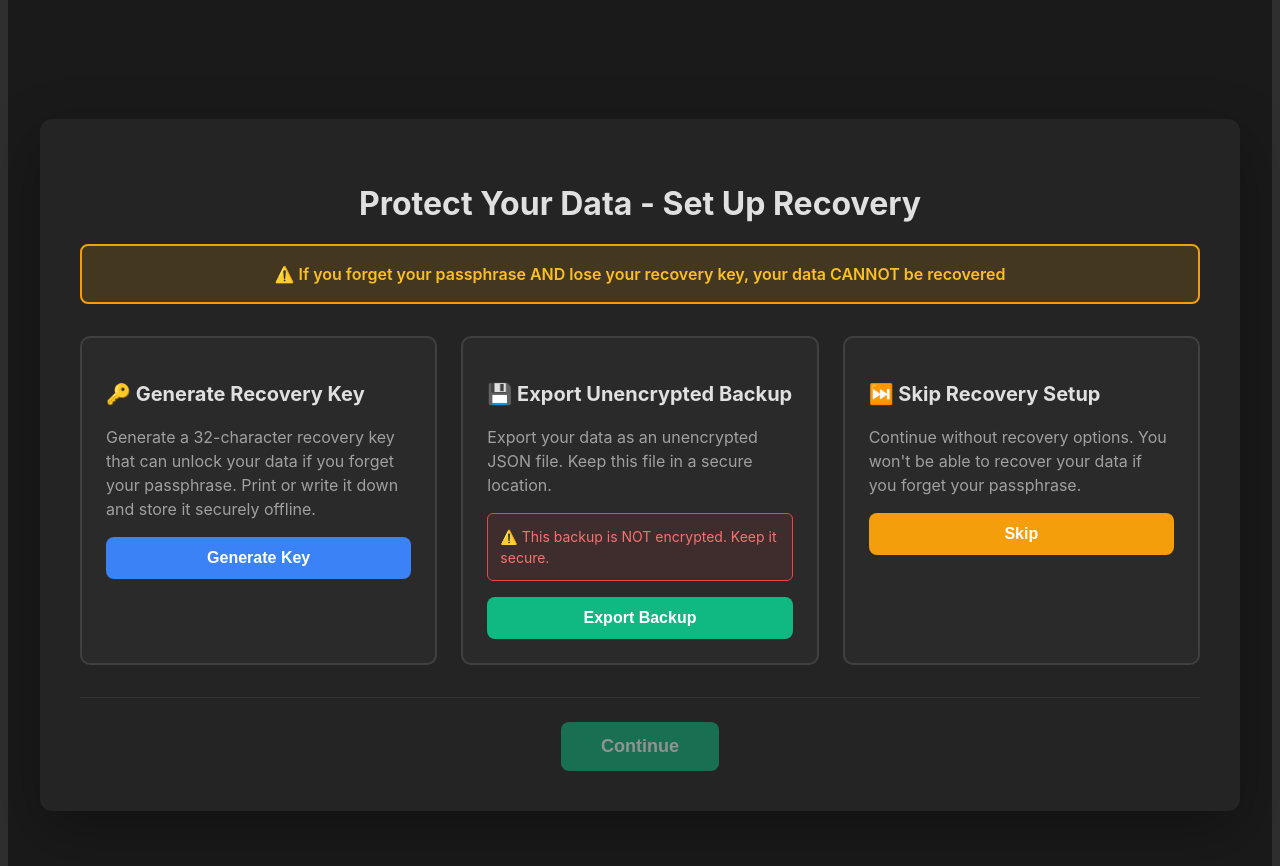
Scenario: RecoveryOptions › requires checkbox confirmation before continuing (AC2)
Note: Generate key
Click the button "Generate Key" at (259, 558), box x1=106 y1=537 x2=411 y2=579
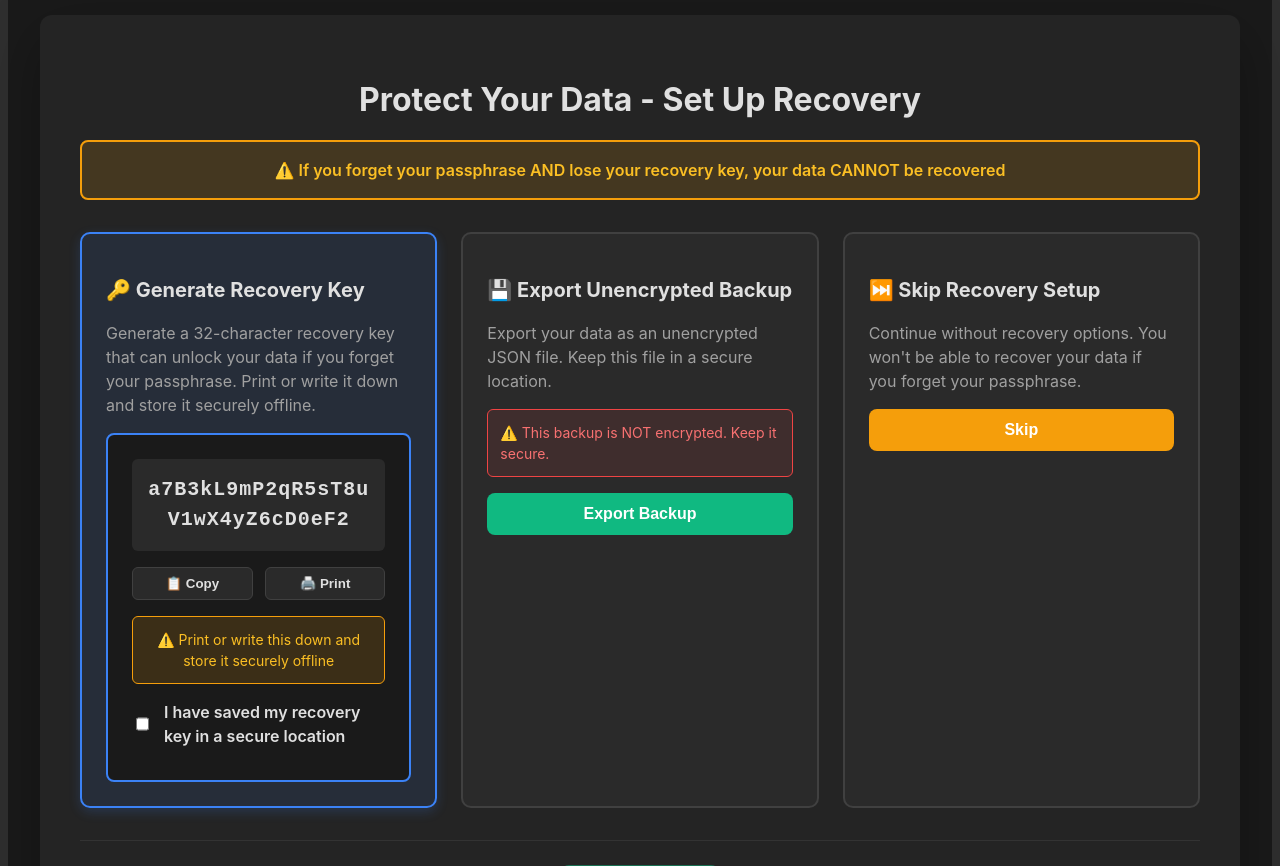
Check: the text "a7B3kL9mP2qR5sT8uV1wX4yZ6cD0eF2" is shown, box x1=132 y1=459 x2=385 y2=551
Note: Check the confirmation checkbox
Click the checkbox at (142, 724), box x1=136 y1=714 x2=149 y2=734
(page scrolled)
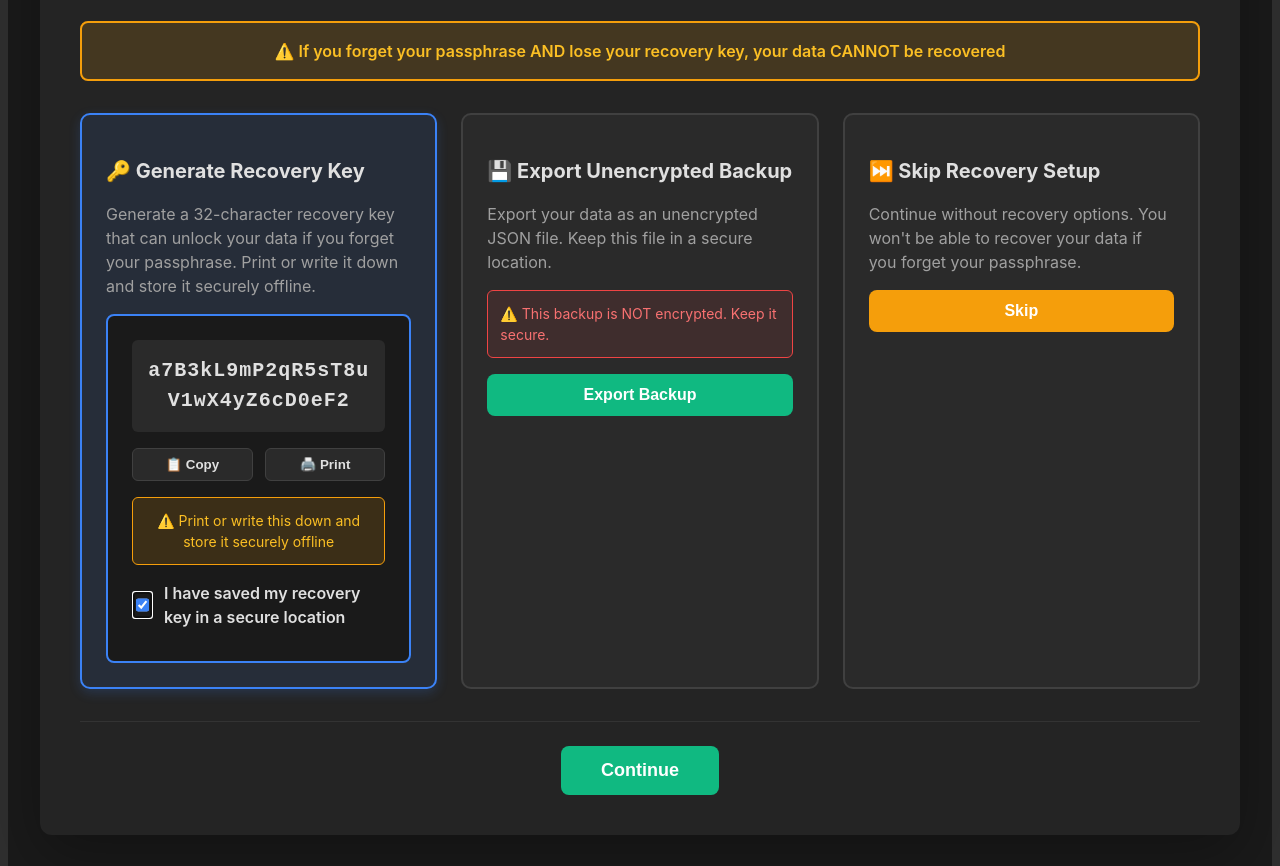
Check: the button "Continue" is enabled, box x1=561 y1=746 x2=719 y2=795
